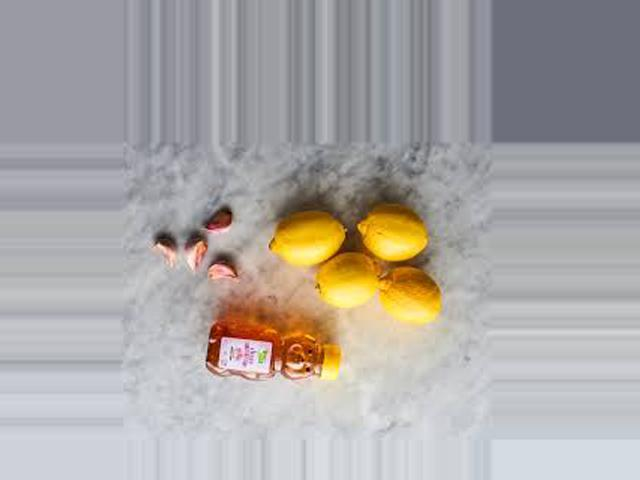lemon: (264, 198, 351, 275)
